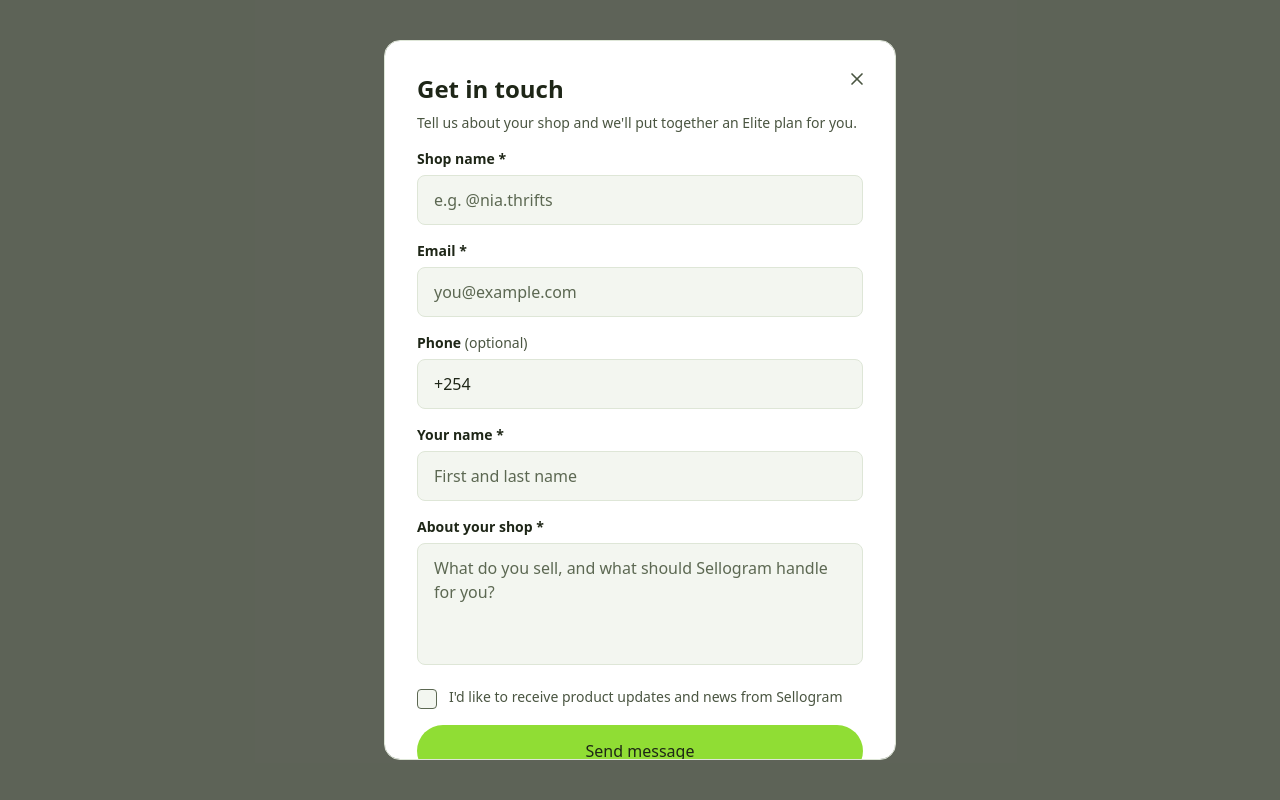
EliteContactModal › reports an error event (not a lead) when persistence fails
Type "Nia Thrifts" into the field labelled "Shop name *" at (640, 200), box x1=417 y1=175 x2=863 y2=225
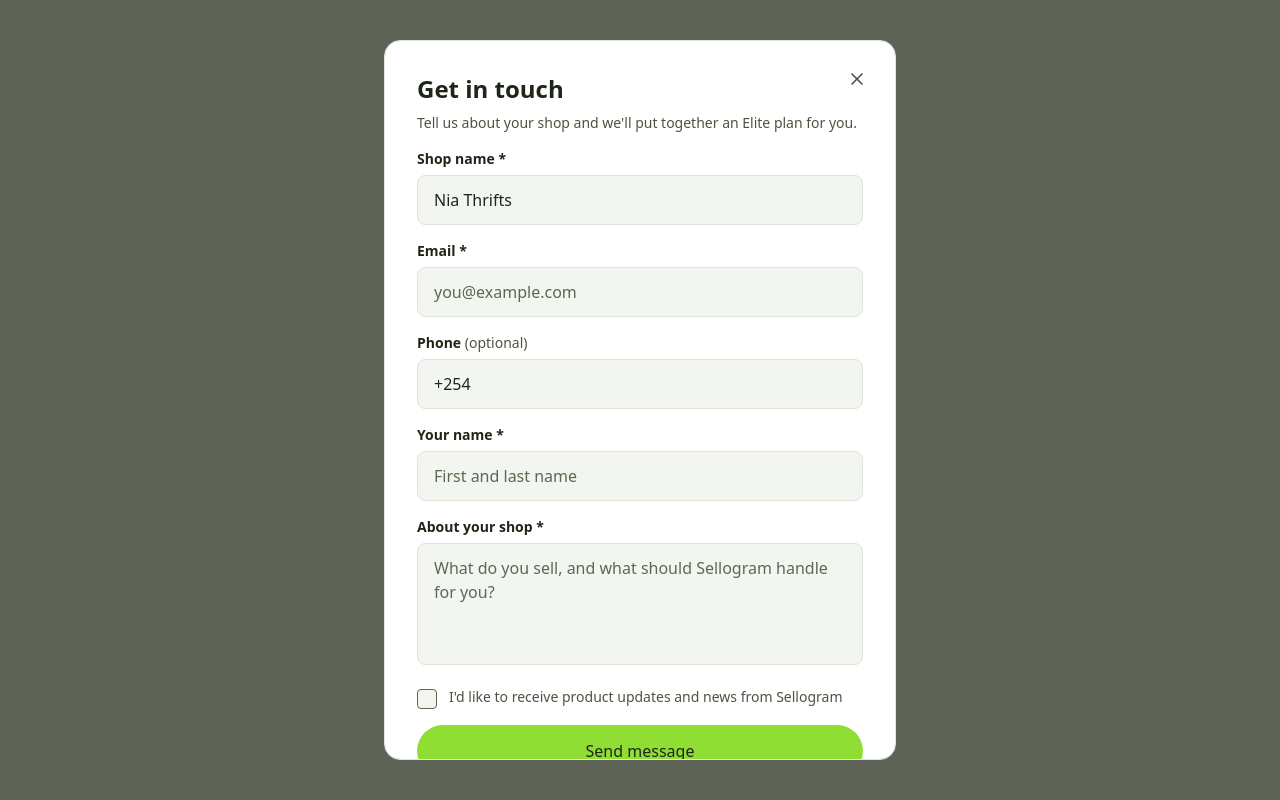
Type "nia@example.com" into the field labelled "Email *" at (640, 292), box x1=417 y1=267 x2=863 y2=317
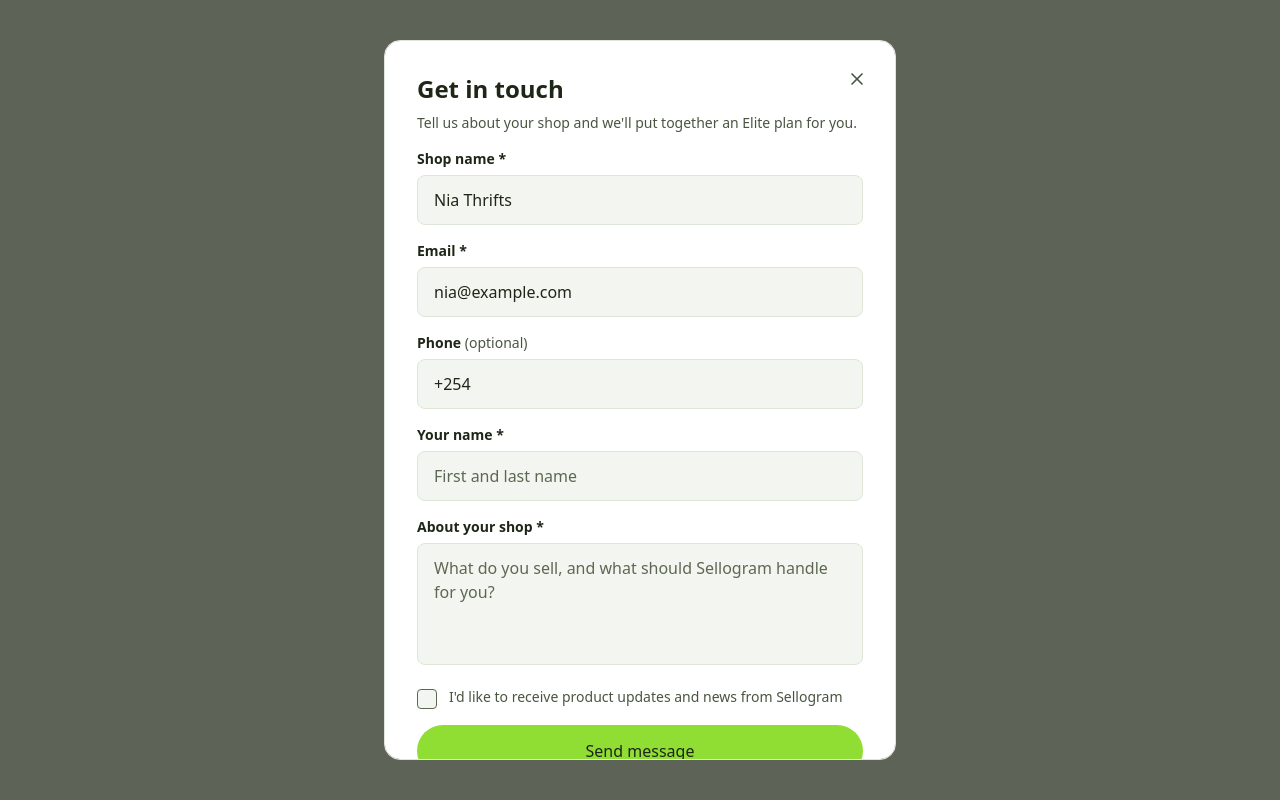
Type "Nia" into the field labelled "Your name *" at (640, 476), box x1=417 y1=451 x2=863 y2=501
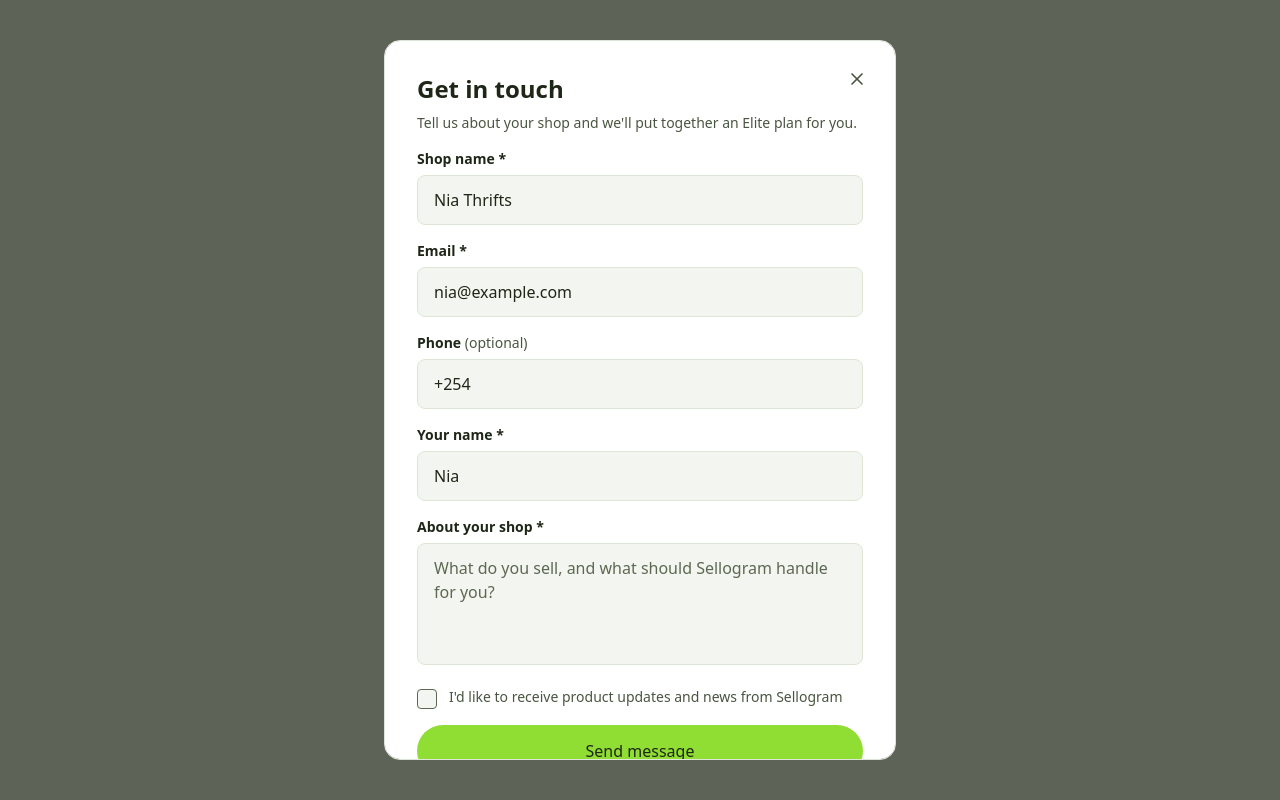
Type "Thrift fashion" into the text box labelled "About your shop *" at (640, 604), box x1=417 y1=543 x2=863 y2=665
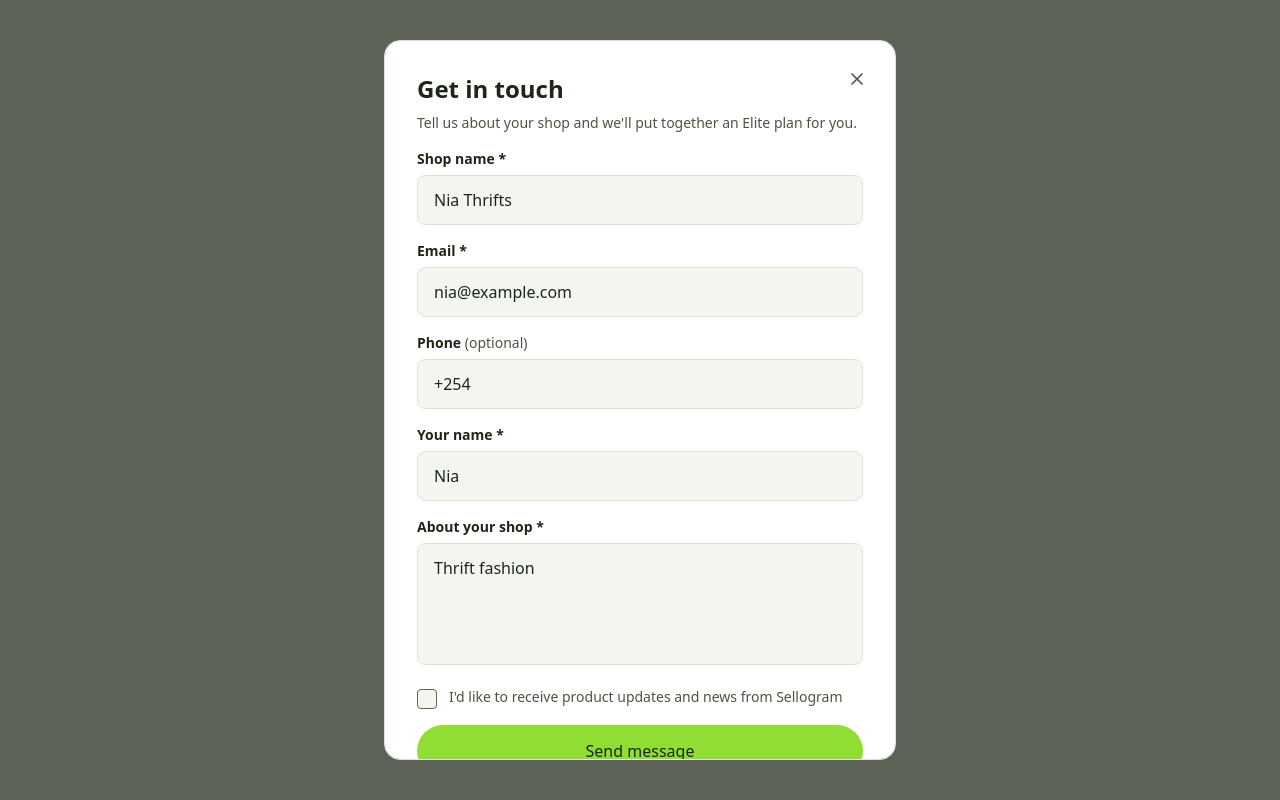
Click the button "Send message" at (640, 751), box x1=417 y1=725 x2=863 y2=777
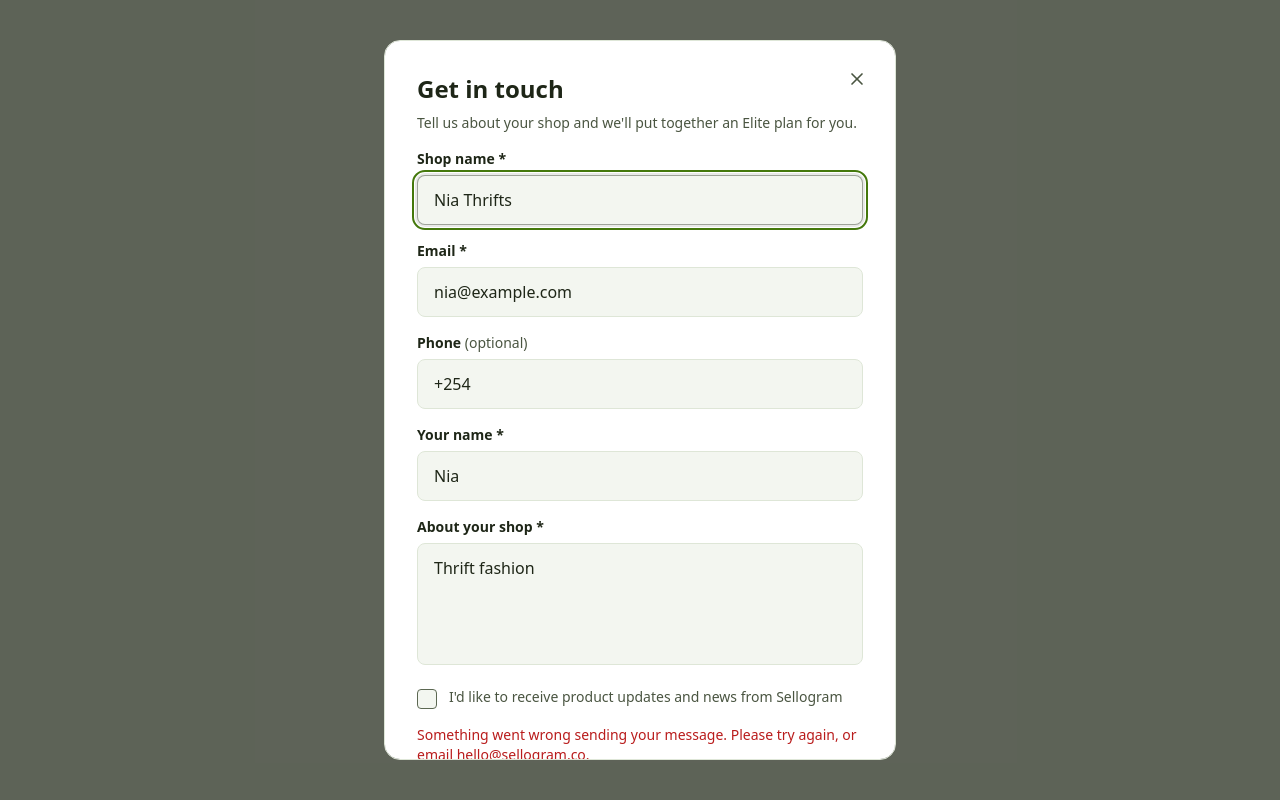
Expected: the message is shown, x1=417 y1=725 x2=863 y2=760
